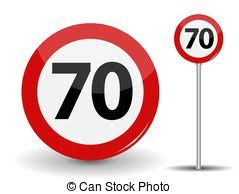Speed_limit_70km: (21, 23, 160, 159), (174, 14, 224, 64)
